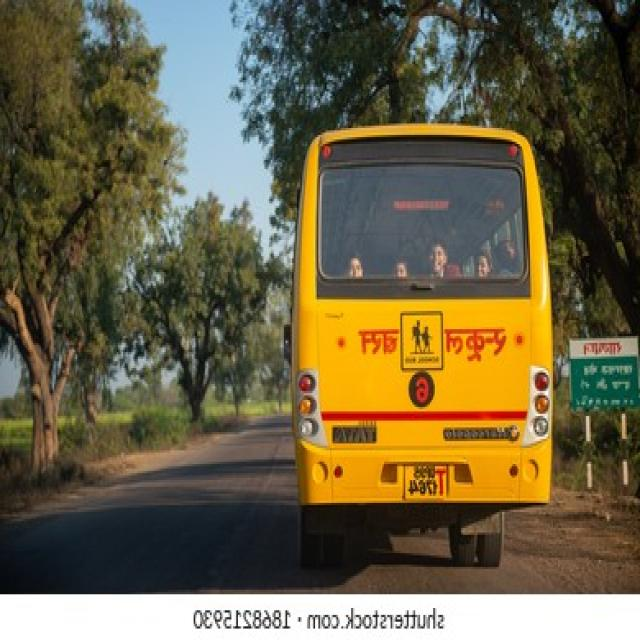bus: (285, 124, 553, 568)
